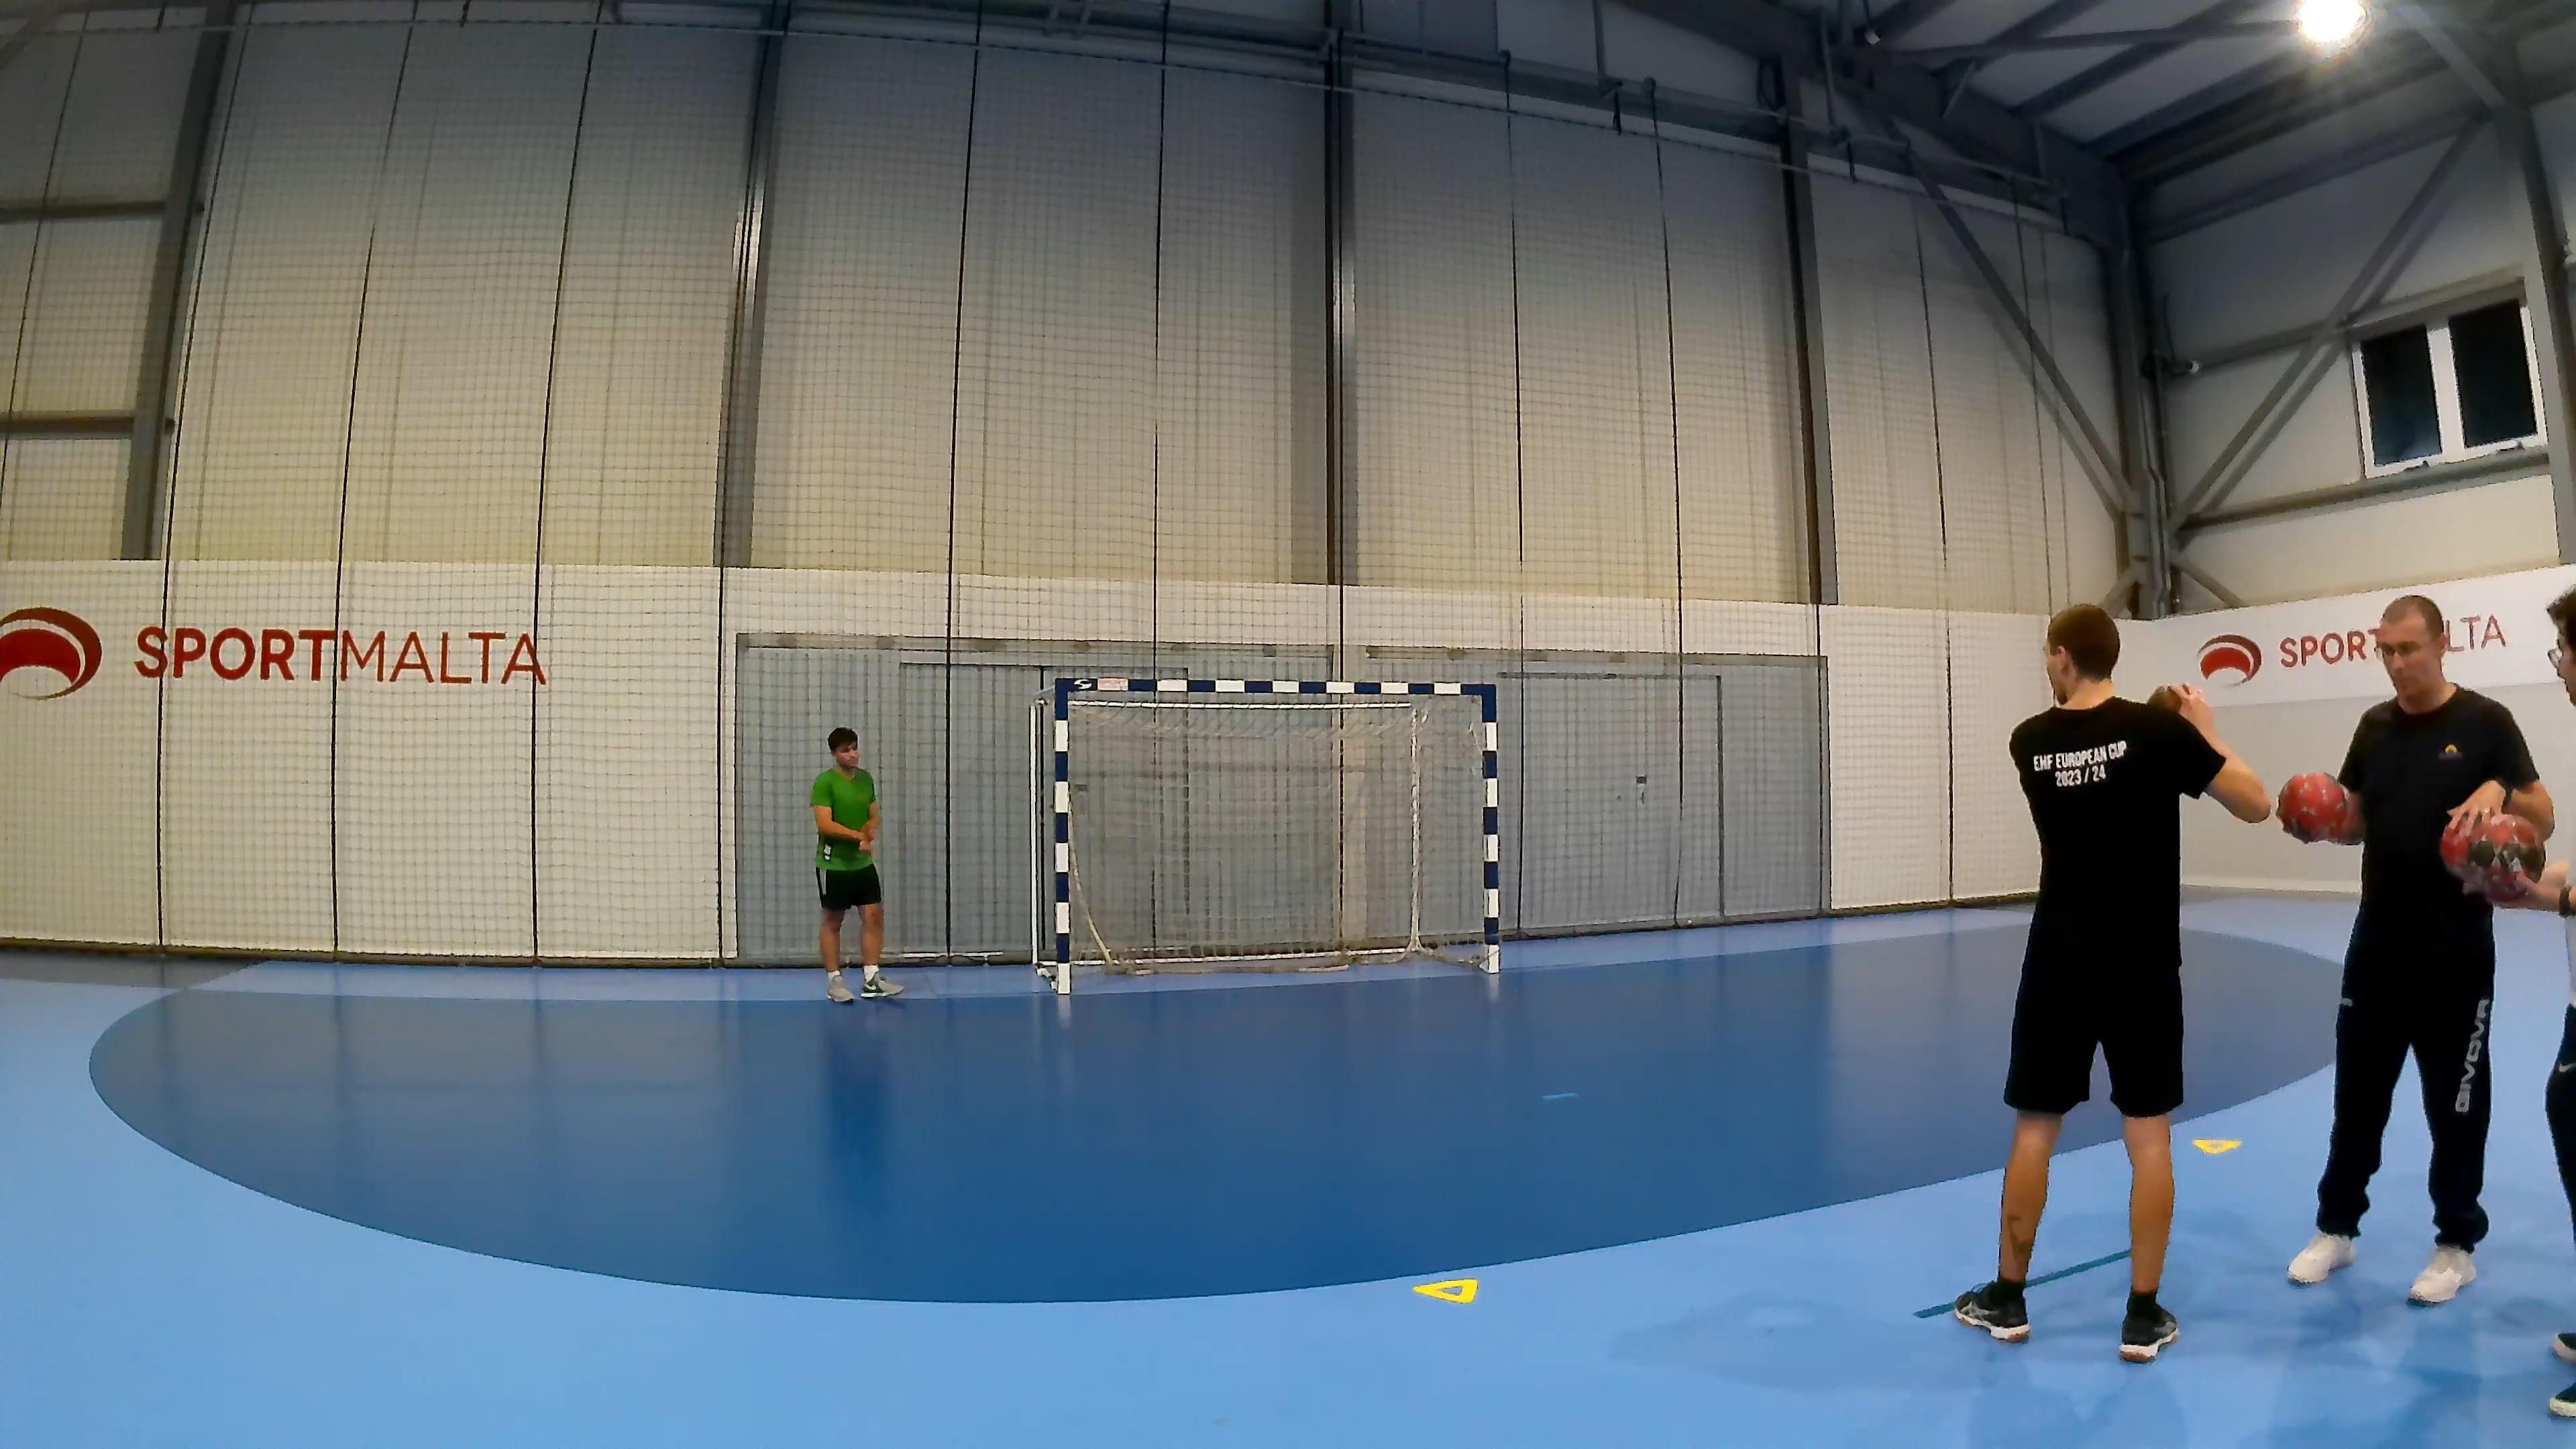handball: (2438, 809, 2546, 886), (2275, 770, 2350, 844)
